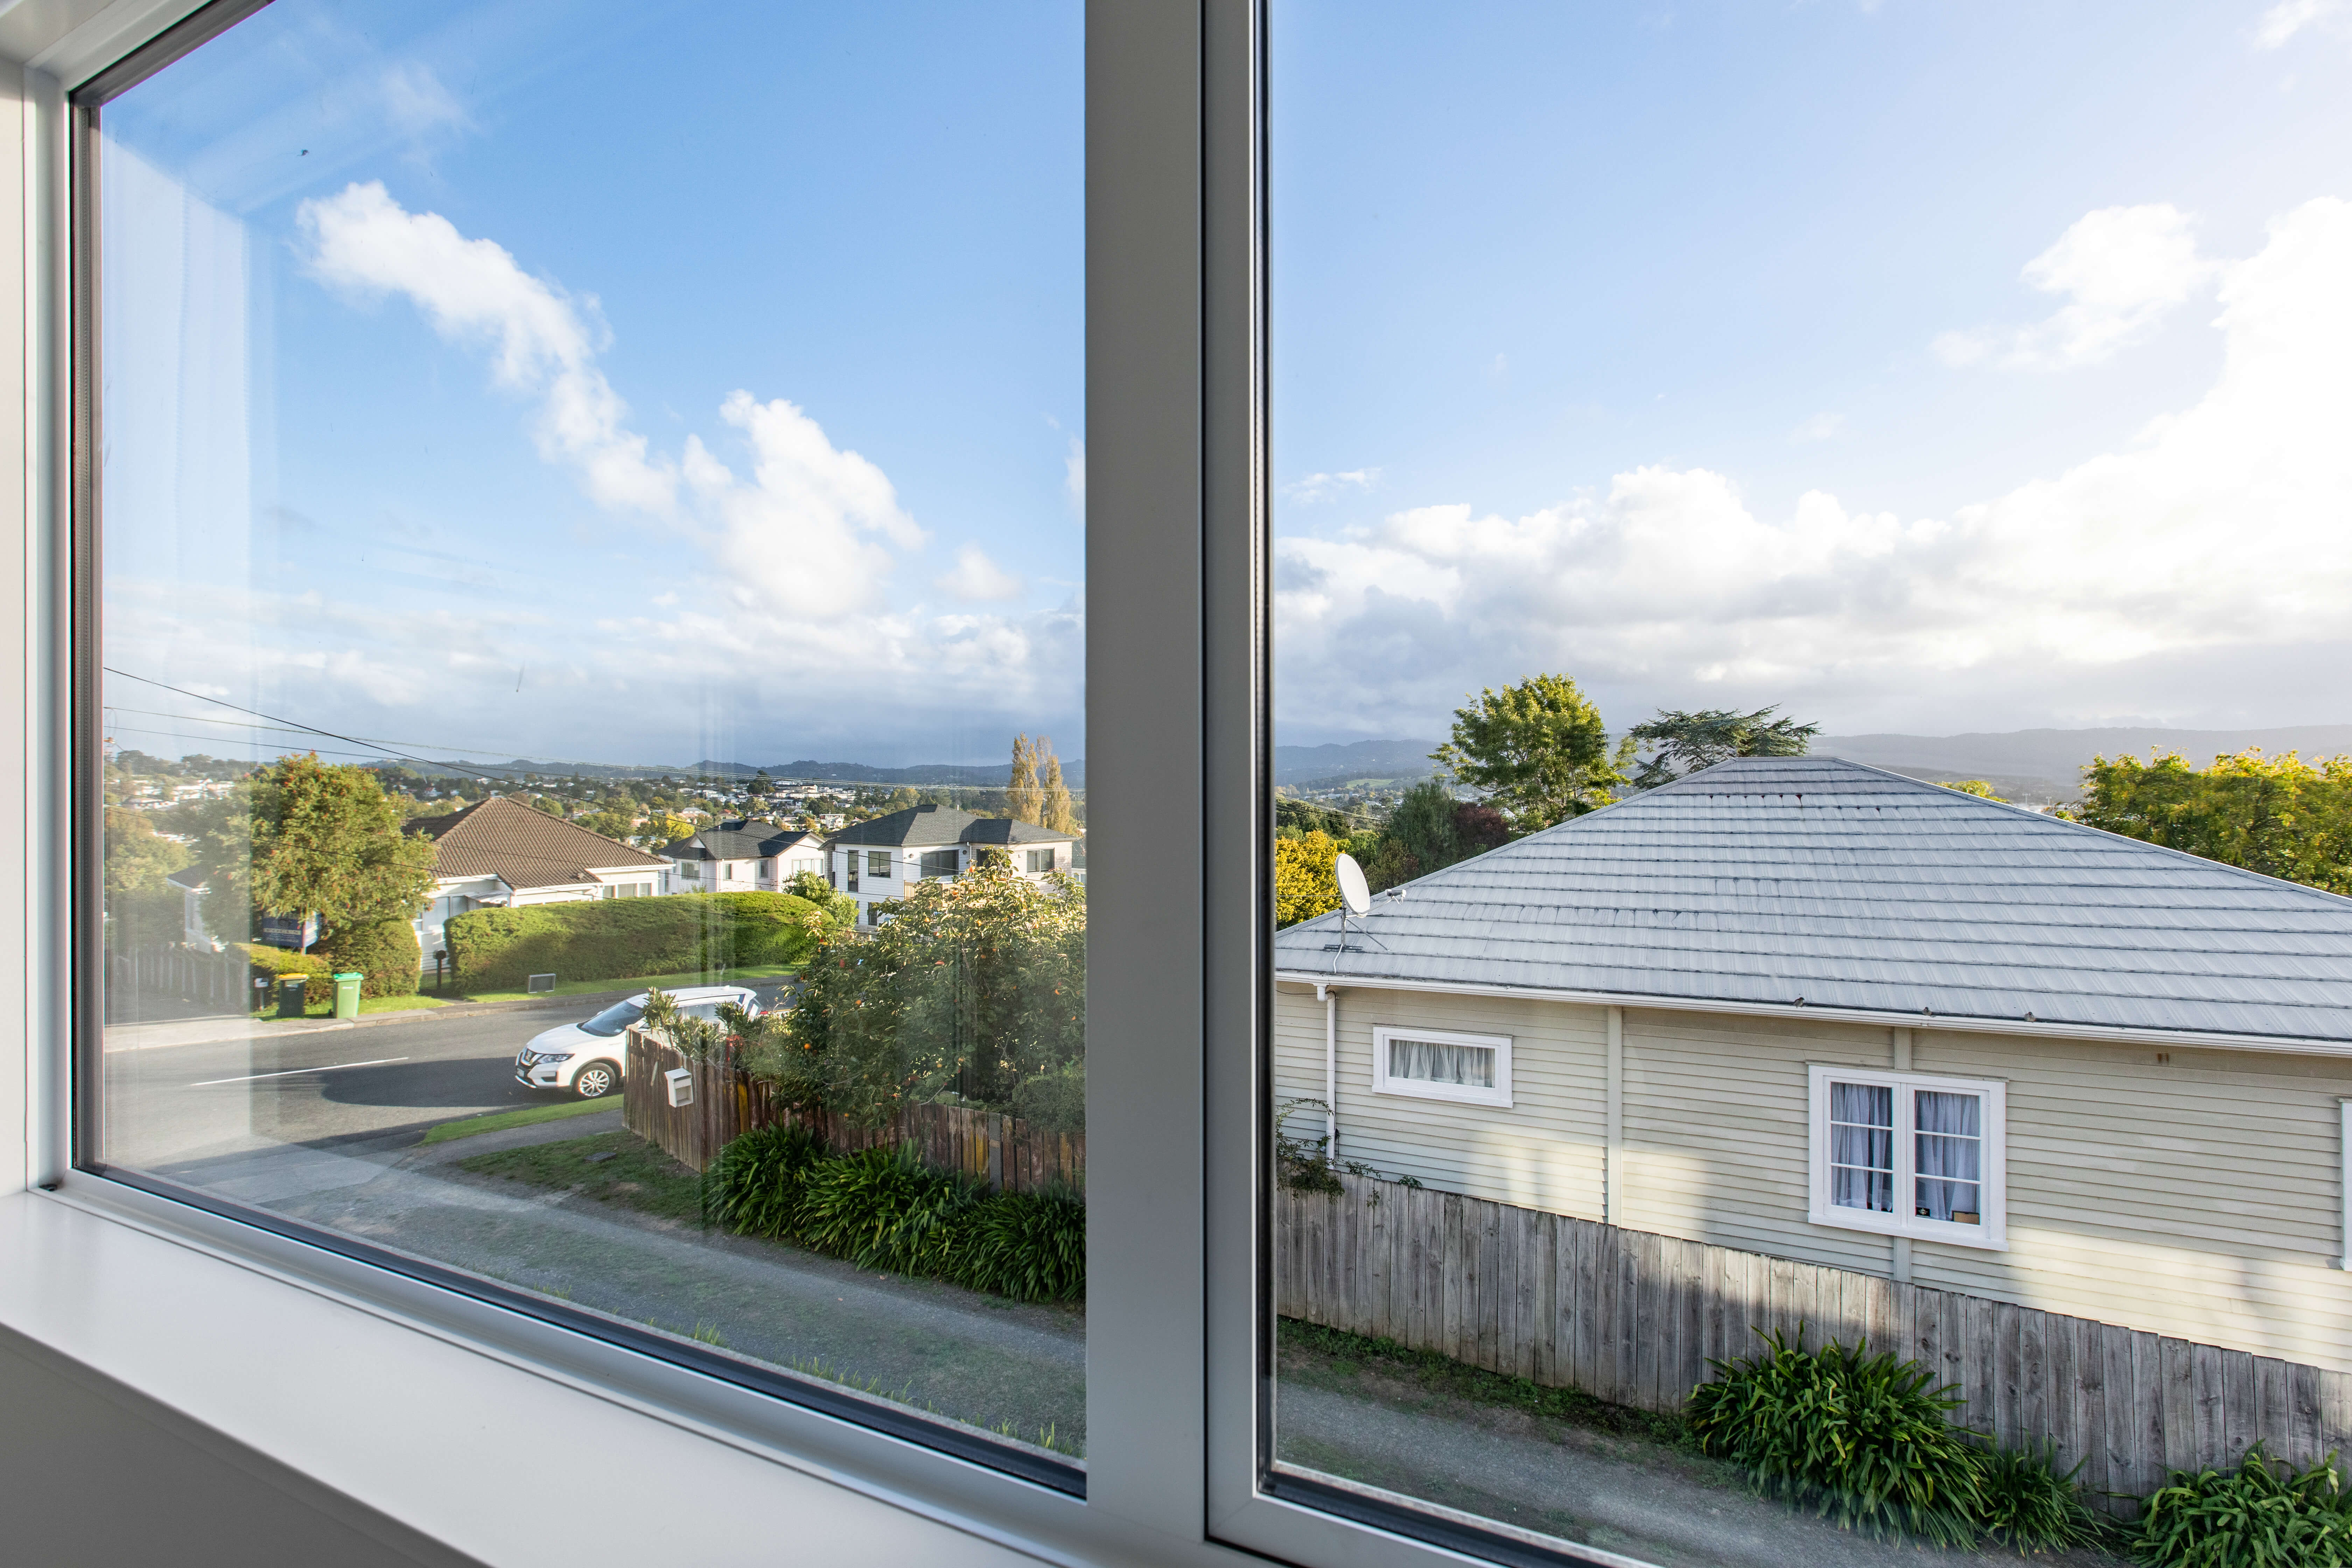Window: (1218, 16, 2352, 1568), (5, 24, 1176, 1482), (1806, 1064, 2007, 1253), (1372, 1029, 1512, 1106)
